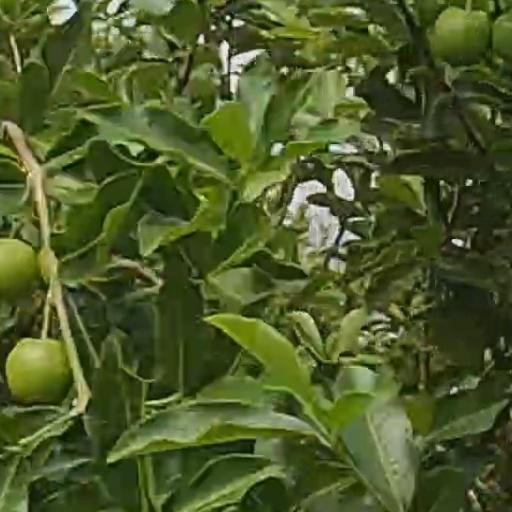acerola: (8, 339, 68, 400), (437, 8, 486, 59), (1, 238, 34, 300), (495, 10, 512, 62)
